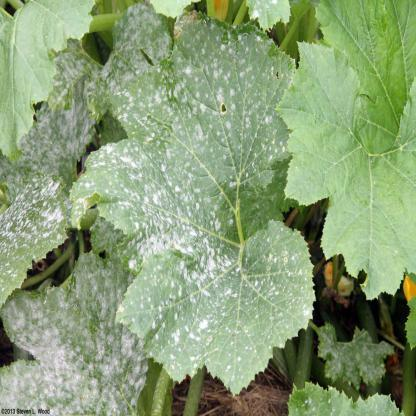squash powdery mildew leaf: (84, 0, 324, 382), (19, 9, 166, 176), (2, 256, 149, 414), (0, 166, 86, 305)
